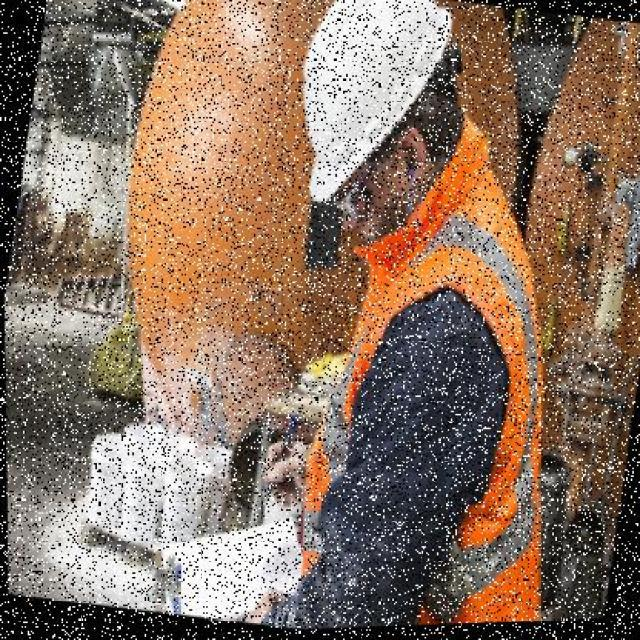helmet: (263, 0, 473, 222)
vest: (288, 151, 612, 631)
